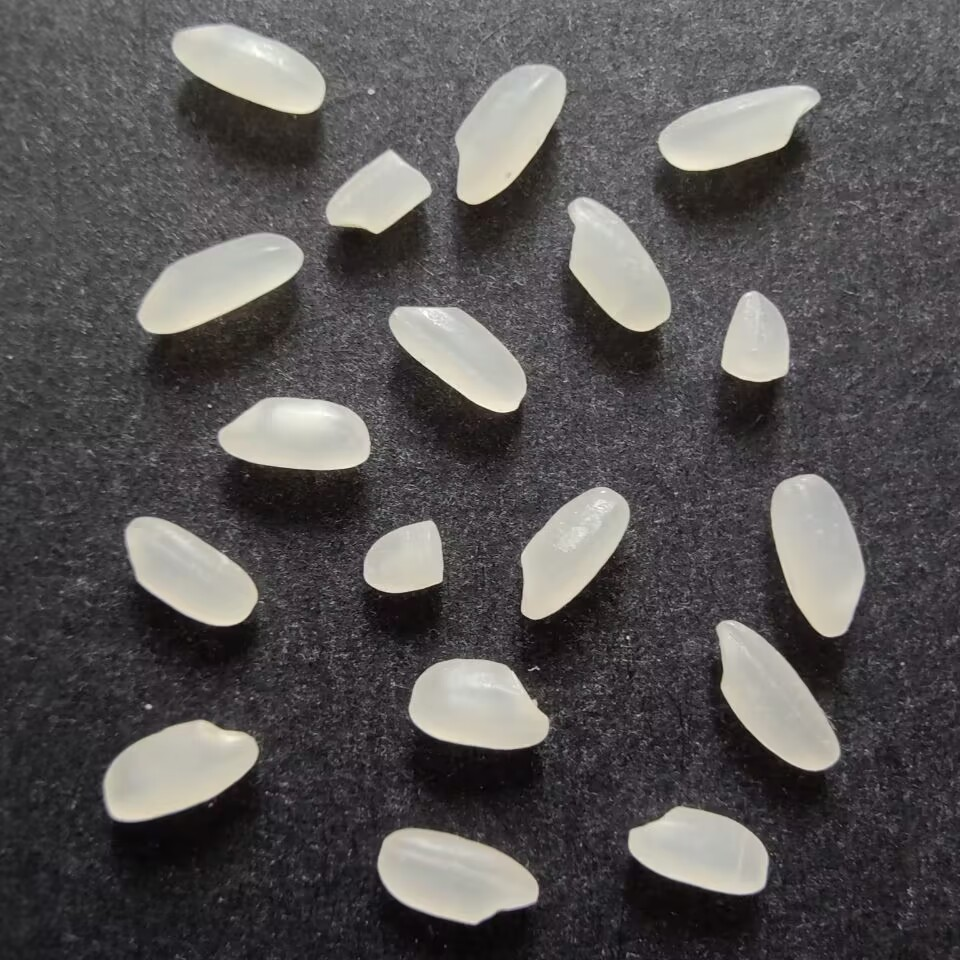broken: (318, 144, 434, 237), (714, 287, 795, 386), (359, 515, 450, 596)
rice: (710, 617, 842, 777), (101, 715, 261, 828), (374, 824, 541, 932), (134, 231, 307, 335), (768, 468, 868, 645), (450, 63, 571, 208), (384, 298, 530, 418), (513, 482, 633, 625), (120, 515, 263, 632), (564, 198, 677, 335), (655, 82, 823, 174), (164, 23, 329, 116), (623, 801, 772, 898), (404, 655, 553, 748), (216, 395, 373, 476)
